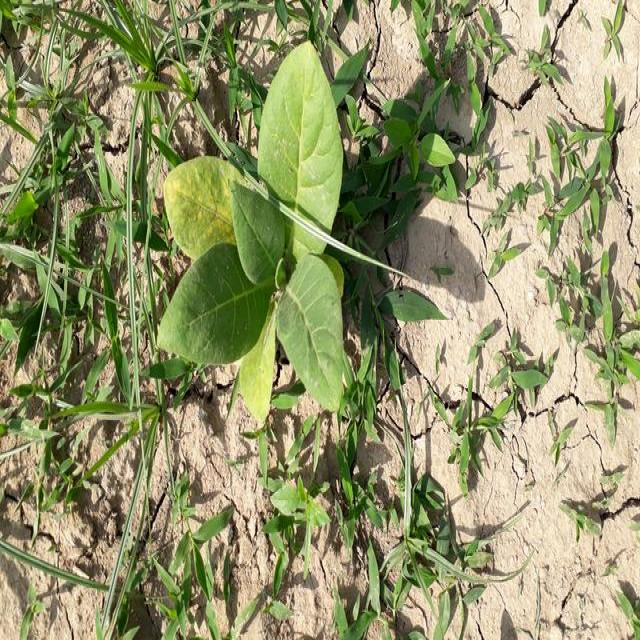crop: (166, 55, 358, 411)
